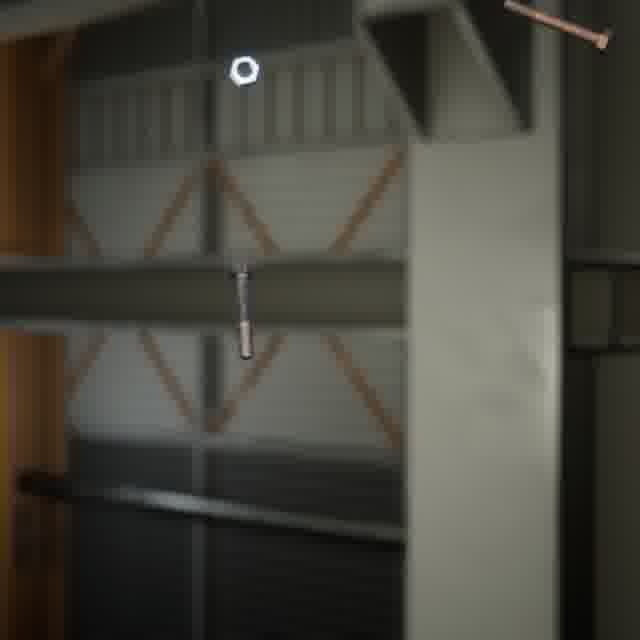bolt: (498, 0, 619, 61), (223, 258, 259, 364)
nut: (225, 50, 264, 91)
